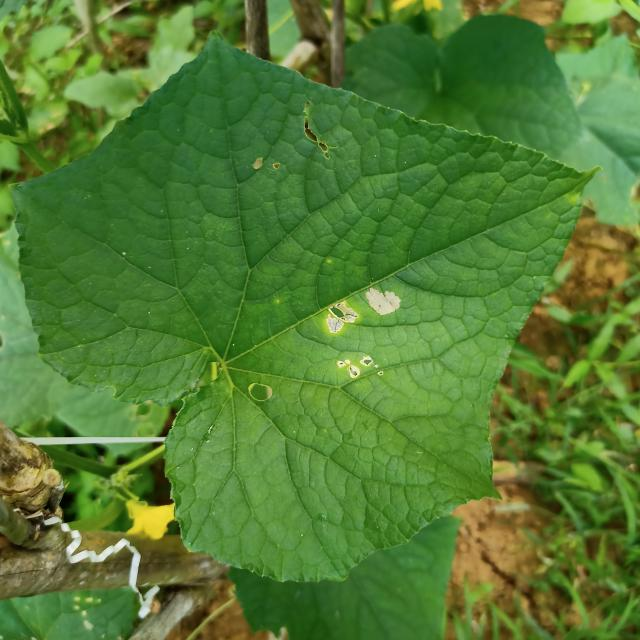disease_cucumber: (322, 286, 400, 382)
